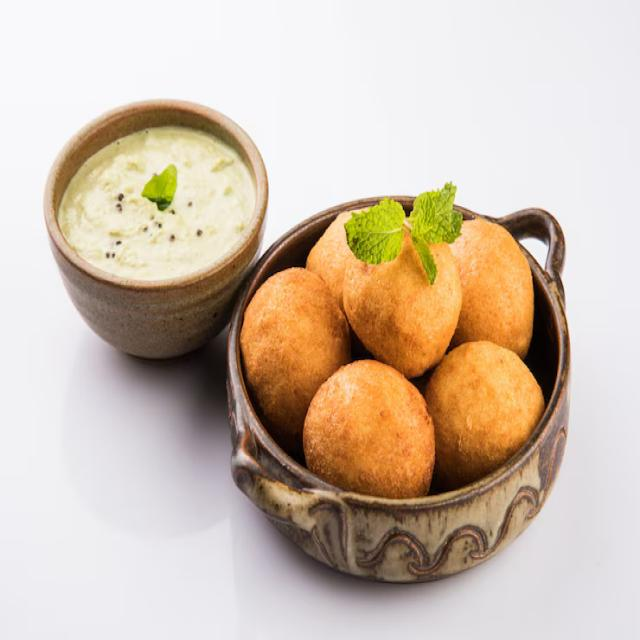BONDA: (234, 191, 570, 502)
WHITE CHUTNEY: (56, 123, 257, 280)
